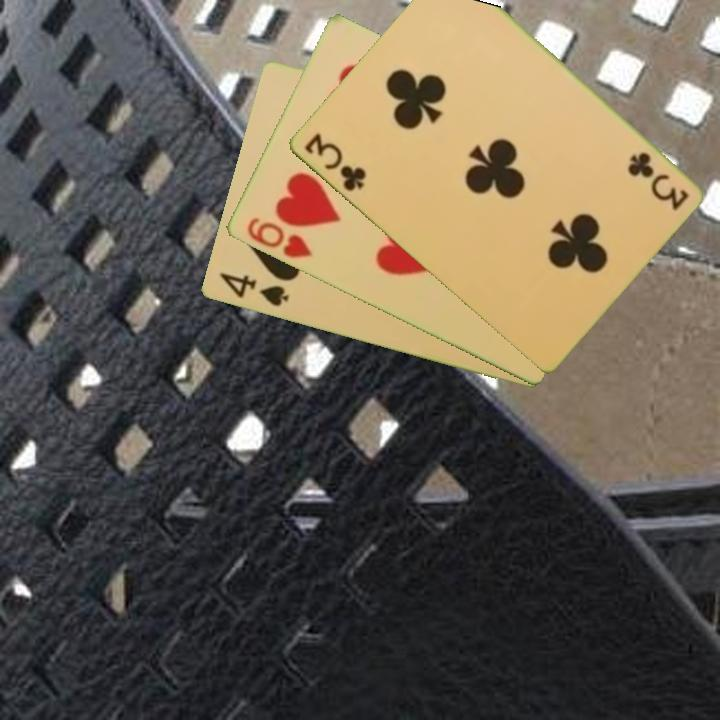3c: (300, 129, 369, 195), (624, 148, 691, 211)
4s: (215, 269, 291, 310)
6h: (242, 213, 315, 262)
